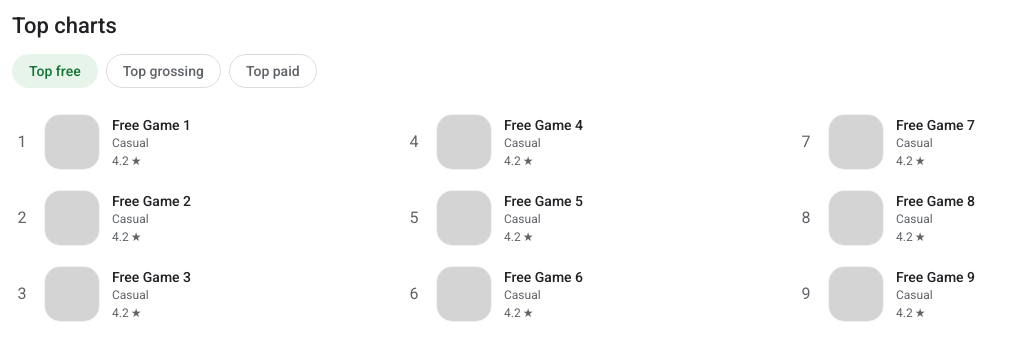
Test case: TopCharts › switches to grossing games when Top grossing tab is clicked
Click the tab "Top grossing": click(163, 71) [106,54,221,88]
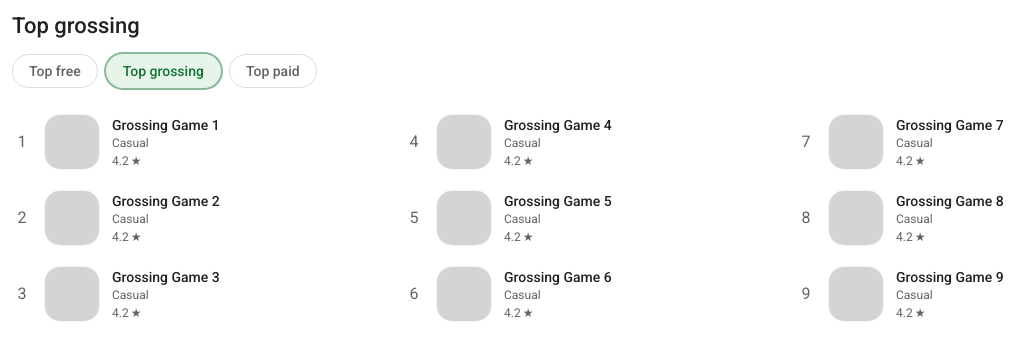
Expected: the text "Grossing Game 1" is shown, [112,117,220,133]
Expected: the button "Free Game 1" is gone
